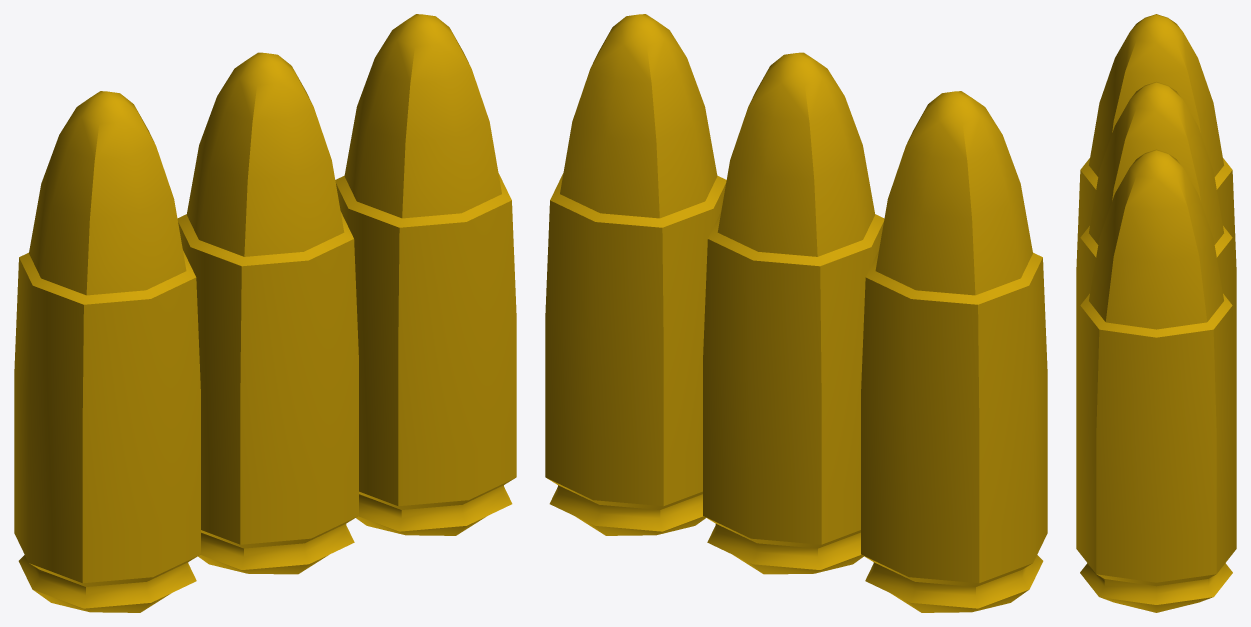
The model's file is MachinnegunPickup.fbx.
The picture shows the model from 3 angles, left to right: view 1: azimuth 30°, elevation 25°; view 2: azimuth 150°, elevation 25°; view 3: azimuth 270°, elevation 25°; orthographic projection. The views are drawn at different scales.
Visible parts, largest first — view 1: Pickup_Bullets; view 2: Pickup_Bullets; view 3: Pickup_Bullets.
Boxes of the visible parts, bbox=[...] form: Pickup_Bullets: bbox=[14, 14, 516, 612]; Pickup_Bullets: bbox=[545, 14, 1047, 612]; Pickup_Bullets: bbox=[1076, 14, 1236, 612].
Bounding box in the file's own units: 82.84 × 84.21 × 27.61.
